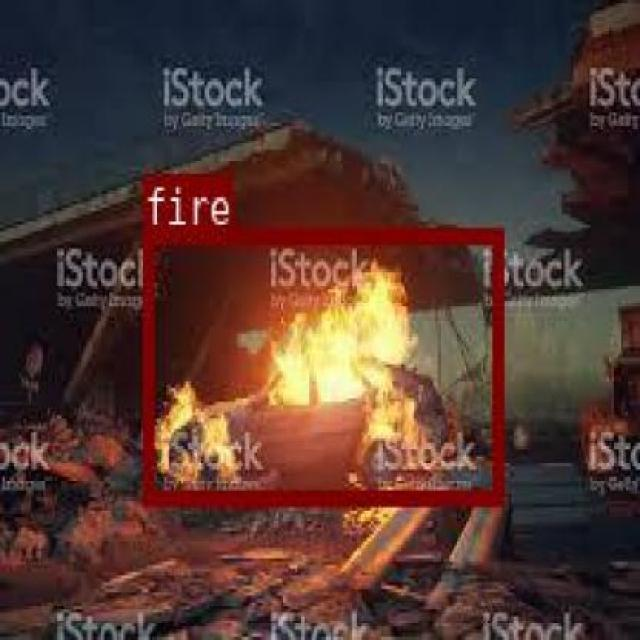Fire: (321, 275, 359, 364)
